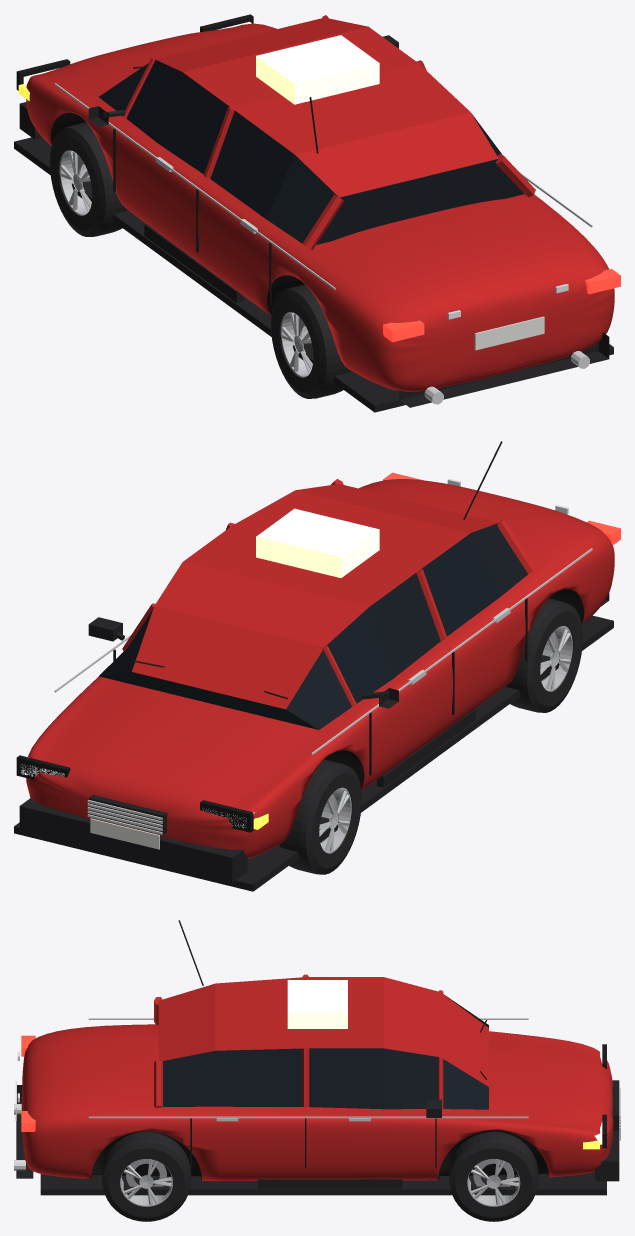
Rendered from taxi.glb.
3 views of the same model, one above another, from view 1: azimuth 30°, elevation 25°; view 2: azimuth 150°, elevation 25°; view 3: azimuth 270°, elevation 25° (orthographic). The views are drawn at different scales.
Visible parts, largest first — view 1: body, wheel_rl, wheel_fl; view 2: body, wheel_fl, wheel_rl; view 3: body, wheel_fr, wheel_rr.
Boxes of the visible parts, x1,y1,x2,y2 form: body: [14, 14, 620, 412]; wheel_rl: [271, 284, 351, 398]; wheel_fl: [49, 122, 128, 236]; body: [14, 441, 620, 891]; wheel_fl: [279, 759, 361, 874]; wheel_rl: [505, 598, 582, 712]; body: [14, 920, 620, 1195]; wheel_fr: [449, 1131, 538, 1221]; wheel_rr: [102, 1131, 191, 1221].
Bounding box in the file's own units: 2.26 × 1.98 × 5.04.
